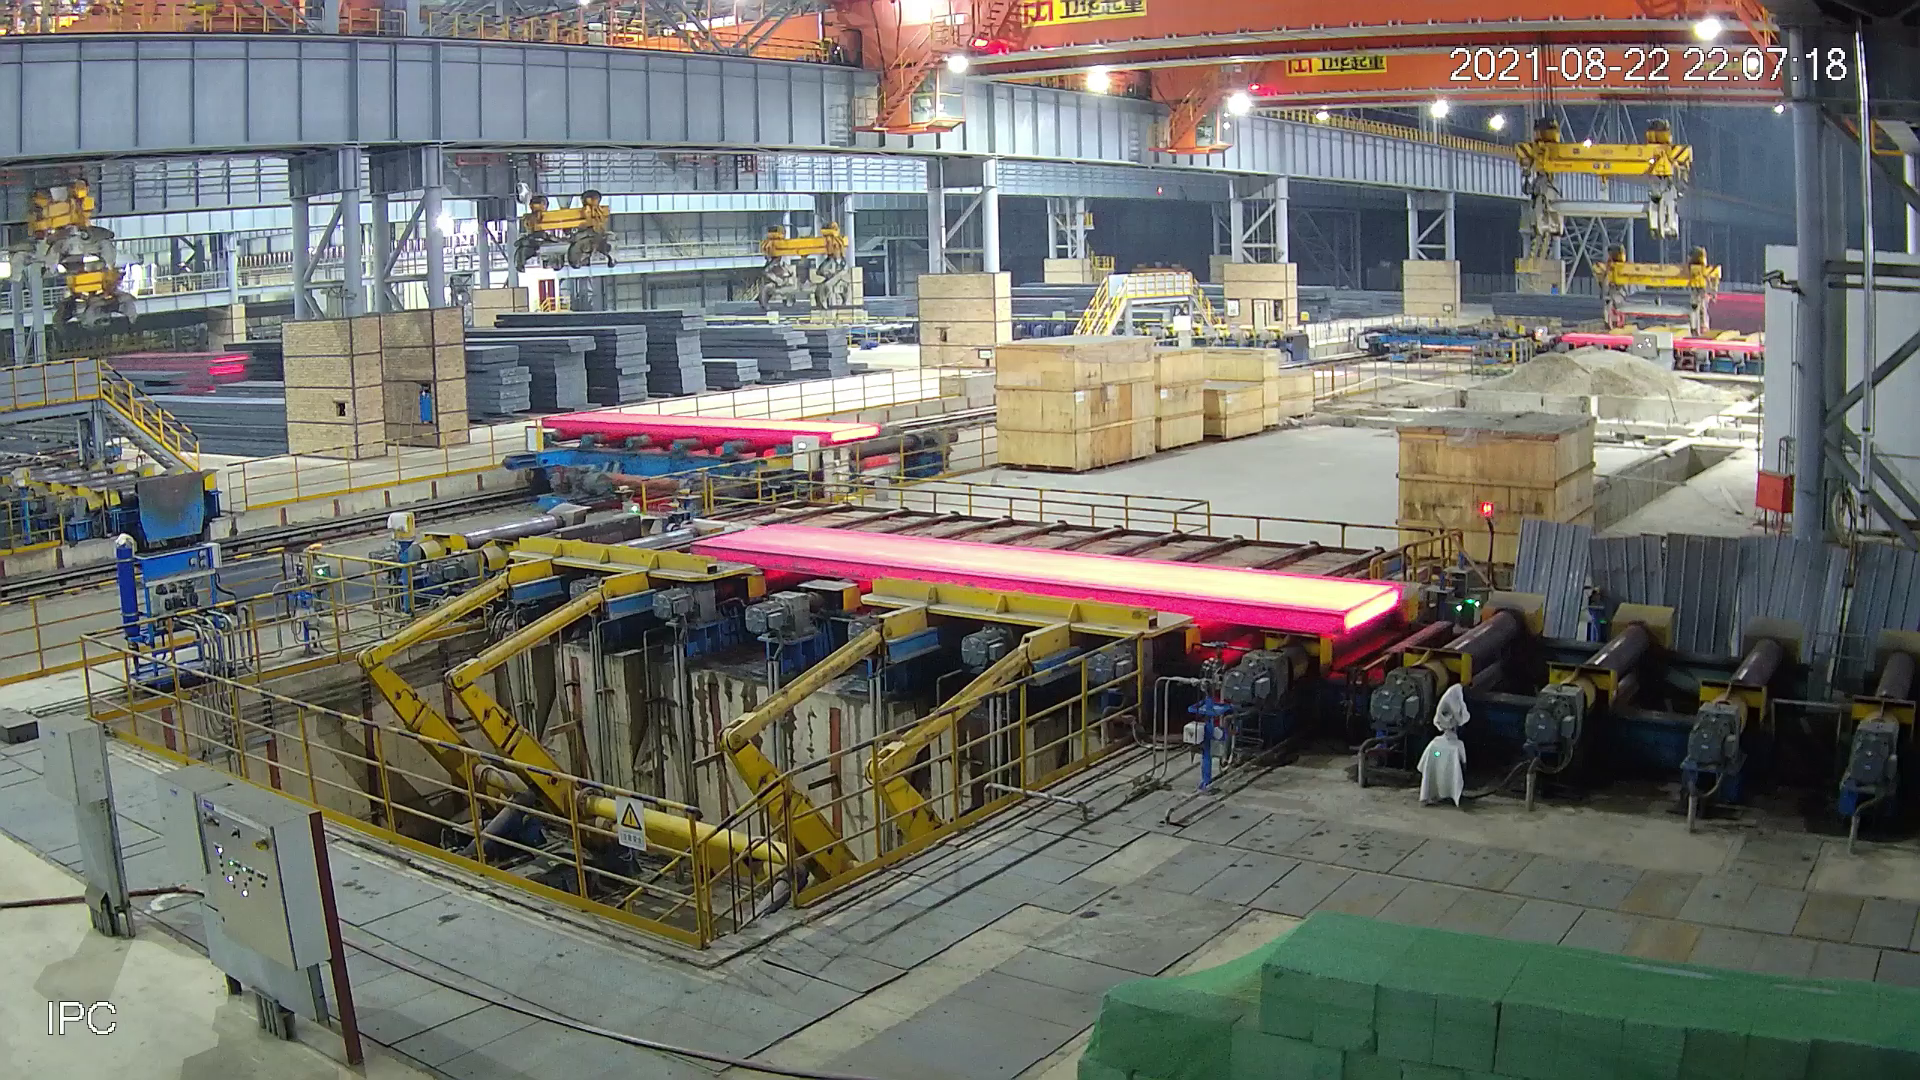slab: (688, 522, 1402, 633), (545, 411, 880, 444)
